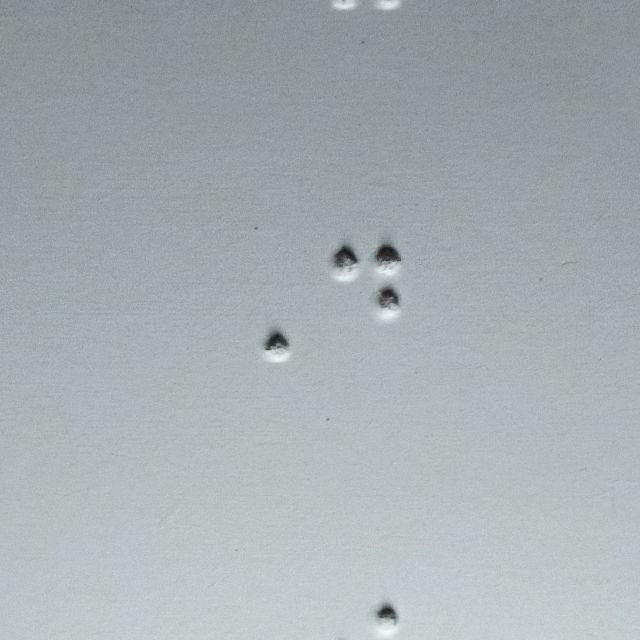D: (322, 242, 403, 364)
capital: (207, 242, 294, 368)
